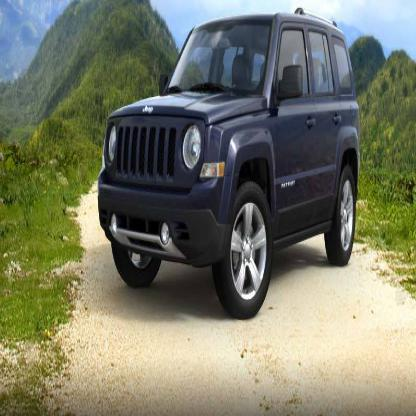Vehicle: (96, 6, 362, 324)
